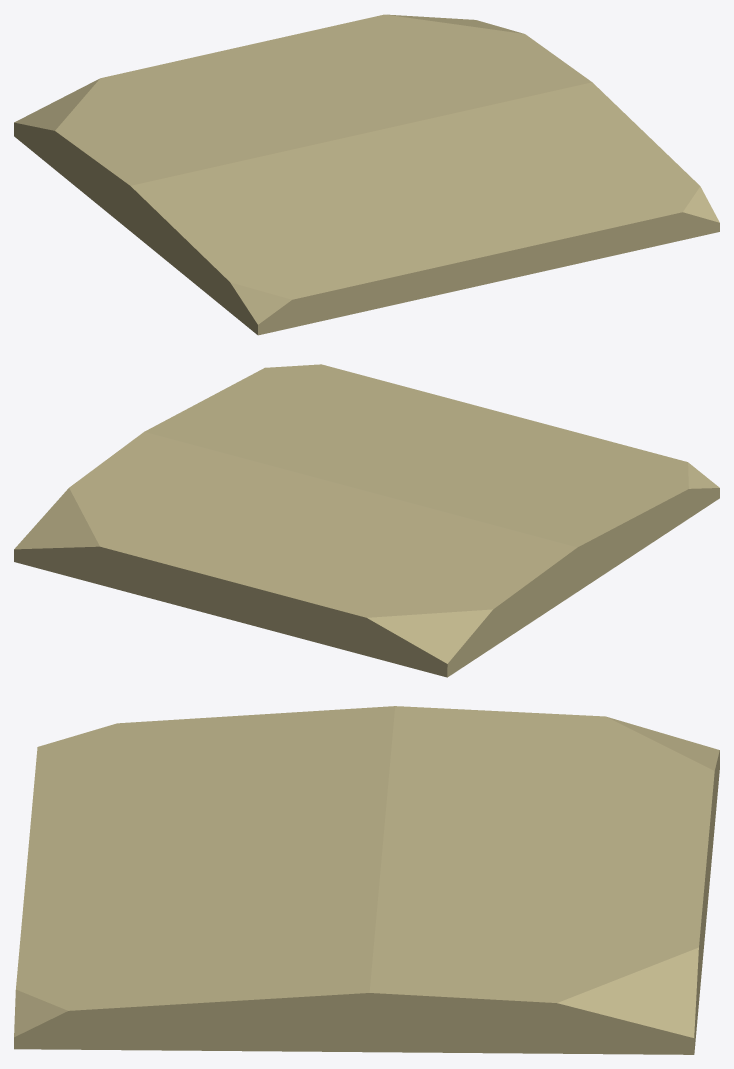
The model's file is Tile_low.fbx.
3 renders of one model, top to bottom at view 1: azimuth 30°, elevation 25°; view 2: azimuth 150°, elevation 25°; view 3: azimuth 270°, elevation 25°, orthographic. The views are drawn at different scales.
Parts seen in each view (by area): view 1: Tile_low; view 2: Tile_low; view 3: Tile_low.
Part boxes in pixels (x1,y1,x2,y2): Tile_low: (14,14,719,335); Tile_low: (14,364,719,677); Tile_low: (14,706,719,1054).
Bounding box in the file's own units: 70.46 × 6.9 × 70.47.
